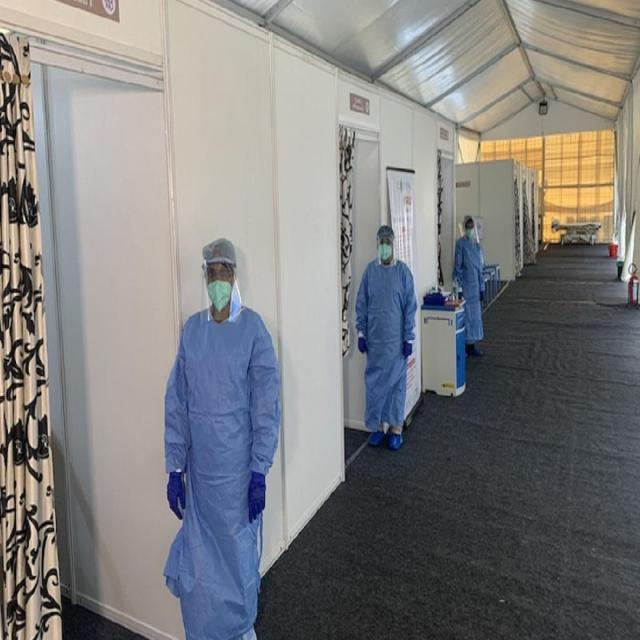Coverall: (164, 239, 281, 636), (356, 223, 416, 451), (453, 214, 487, 356)
Gloves: (165, 466, 189, 520), (248, 470, 270, 522), (356, 335, 367, 354), (404, 342, 412, 359), (480, 290, 487, 301)
Mask: (208, 279, 230, 306), (379, 243, 392, 262), (466, 227, 473, 239)
